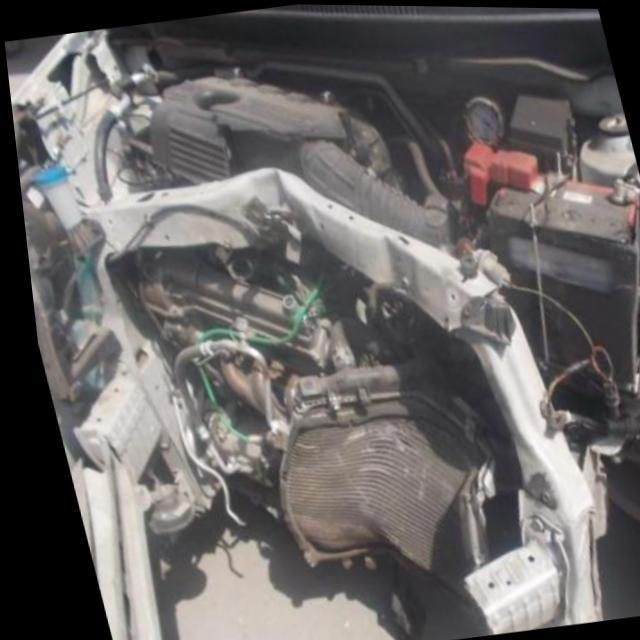no part: (15, 91, 640, 634)
